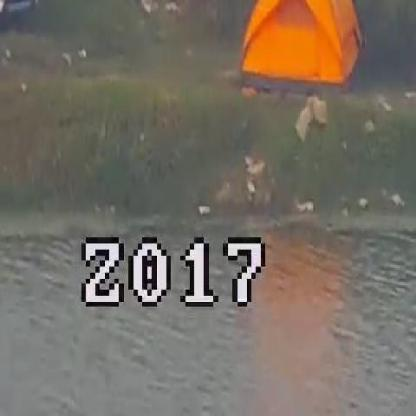other: (236, 3, 372, 93)
